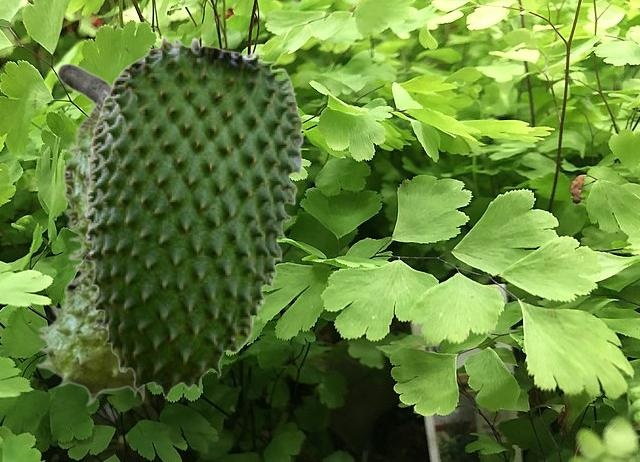guyabano: (83, 36, 303, 398), (34, 62, 147, 406)
